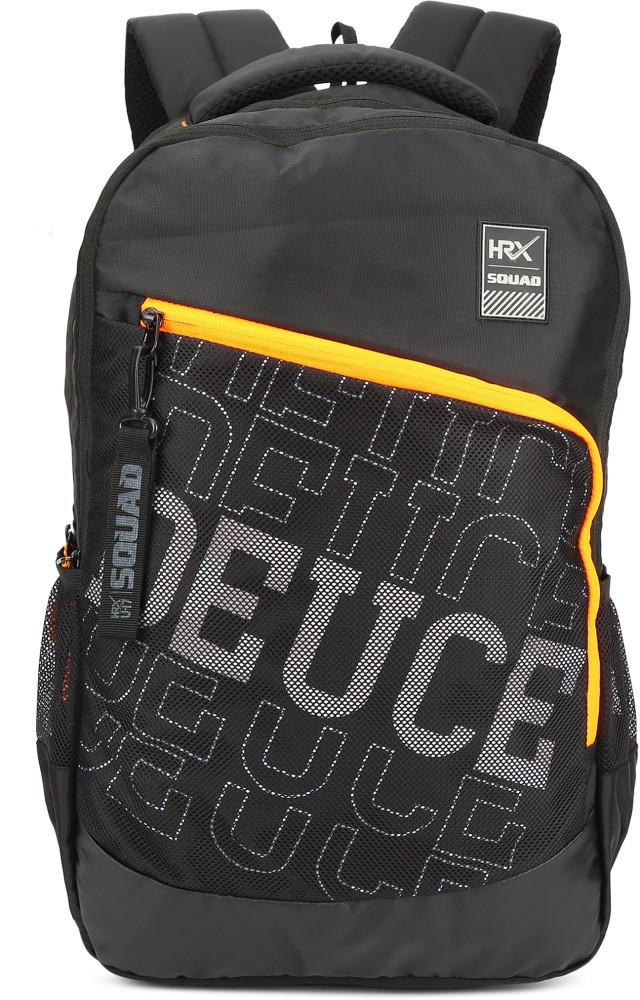backpack: (35, 11, 636, 986)
